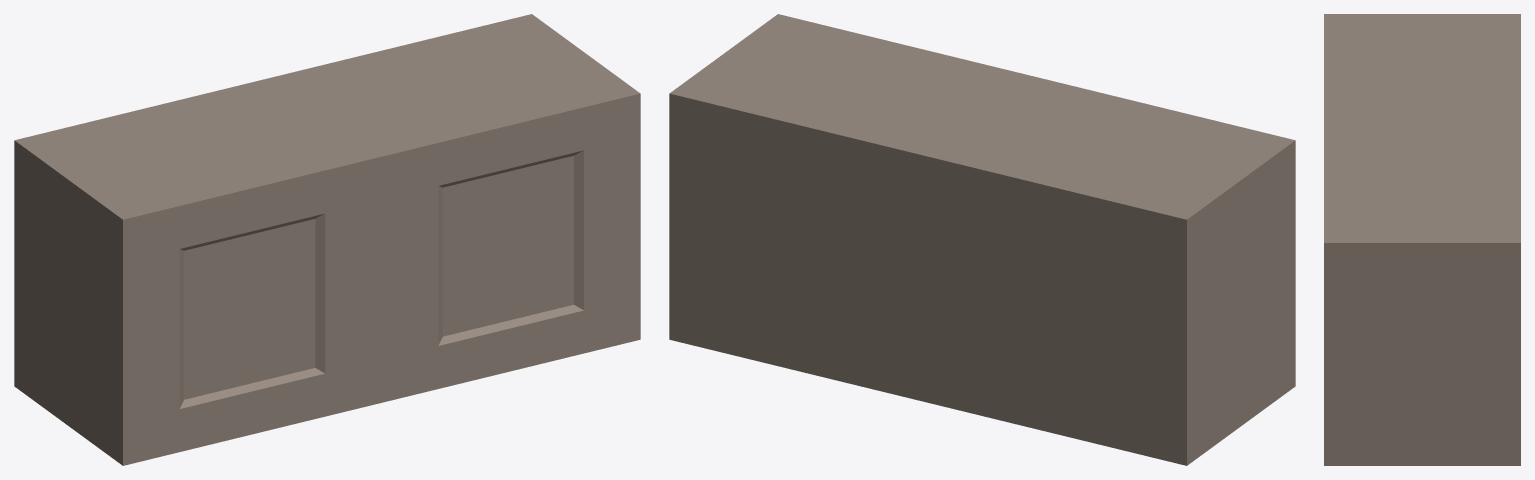
File: 12-15-High-12-Deep_std_001_W33in_2D.glb
The picture shows the model from 3 angles, left to right: view 1: azimuth 30°, elevation 25°; view 2: azimuth 150°, elevation 25°; view 3: azimuth 270°, elevation 25°; orthographic projection. The views are drawn at different scales.
Visible parts, largest first — view 1: 12-15-High-12-Deep.std.001_W33in_2D; view 2: 12-15-High-12-Deep.std.001_W33in_2D; view 3: 12-15-High-12-Deep.std.001_W33in_2D.
Boxes of the visible parts, x1=… form: 12-15-High-12-Deep.std.001_W33in_2D: x1=14, y1=14, x2=640, y2=465; 12-15-High-12-Deep.std.001_W33in_2D: x1=669, y1=14, x2=1295, y2=465; 12-15-High-12-Deep.std.001_W33in_2D: x1=1324, y1=14, x2=1520, y2=465.
Size of the model in its own units: 0.8382 by 0.381 by 0.3048.
